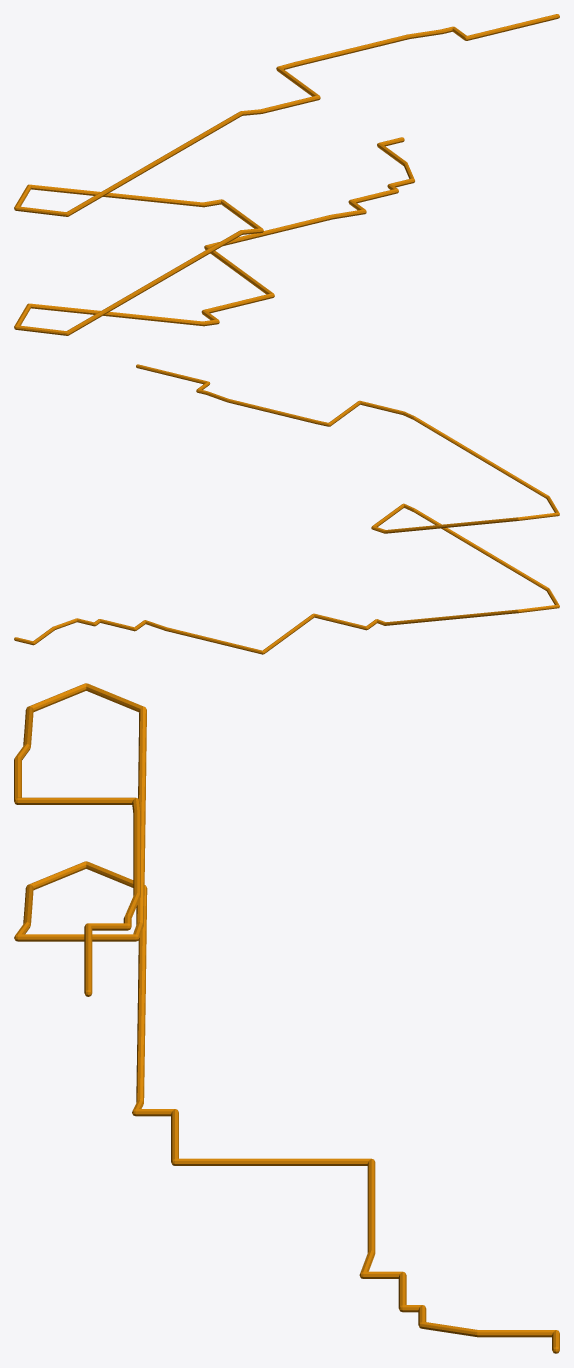
3 renders of one model, top to bottom at view 1: azimuth 30°, elevation 25°; view 2: azimuth 150°, elevation 25°; view 3: azimuth 270°, elevation 25°, orthographic. The views are drawn at different scales.
Size of the model in its own units: 2406 by 1020 by 1390.
